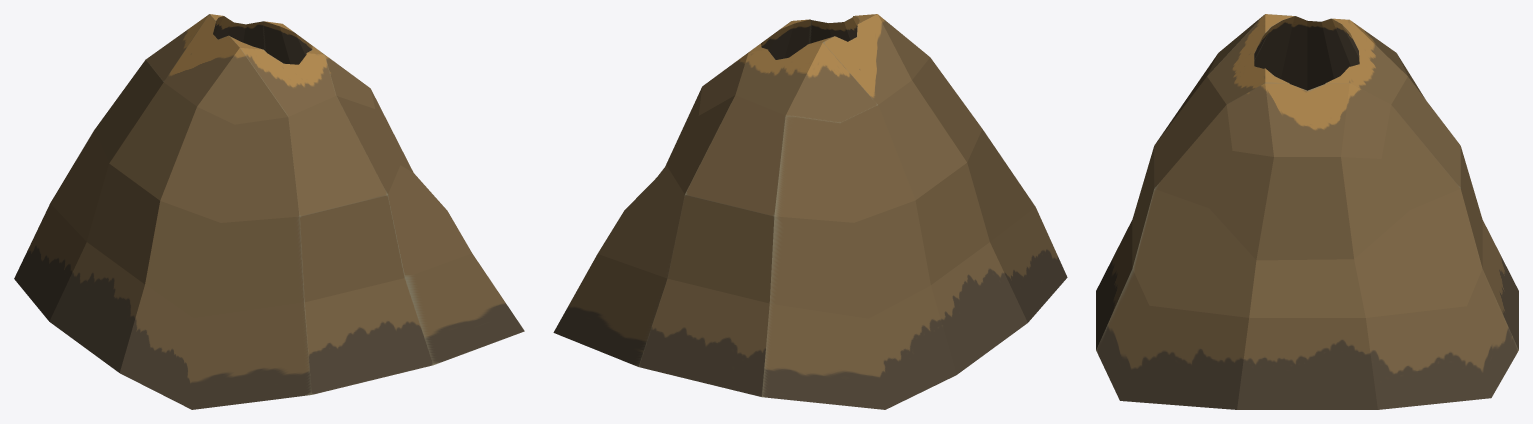
Rendered from vulkaan.fbx.
3 renders of one model, left to right at view 1: azimuth 30°, elevation 25°; view 2: azimuth 150°, elevation 25°; view 3: azimuth 270°, elevation 25°, orthographic.
Parts seen in each view (by area): view 1: pCube2; view 2: pCube2; view 3: pCube2.
Part boxes in pixels (x1,y1,x2,y2): pCube2: (14, 14, 524, 409); pCube2: (553, 14, 1067, 409); pCube2: (1096, 14, 1518, 409).
Bounding box in the file's own units: 3331 × 2460 × 3331.
